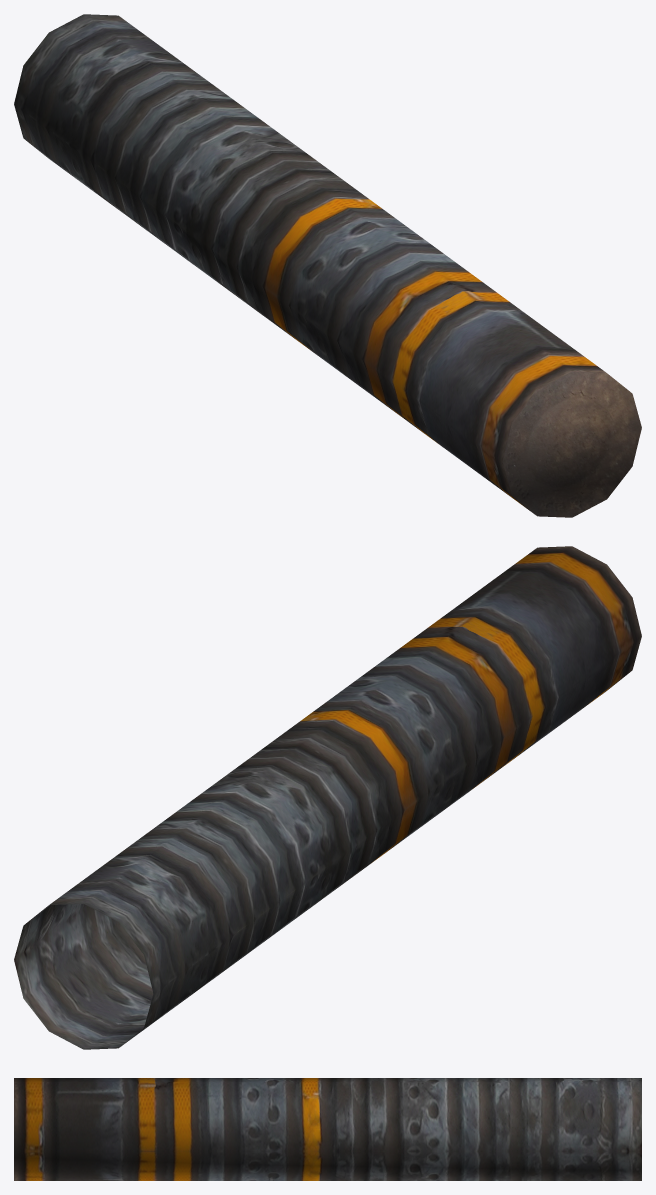
File: RTB1401220804_0312L_01_normalization.obj
The picture shows the model from 3 angles, top to bottom: view 1: azimuth 30°, elevation 25°; view 2: azimuth 150°, elevation 25°; view 3: azimuth 270°, elevation 25°; orthographic projection. The views are drawn at different scales.
Parts seen in each view (by area): view 1: RTB1401220804_0312S_01; view 2: RTB1401220804_0312S_01; view 3: RTB1401220804_0312S_01.
Boxes of the visible parts, <box> form: RTB1401220804_0312S_01: <box>14,14,641,517</box>; RTB1401220804_0312S_01: <box>14,546,641,1049</box>; RTB1401220804_0312S_01: <box>14,1078,641,1180</box>.
Size of the model in its own units: 0.1605 by 0.1605 by 0.9739.
1 material, 1 textured.
